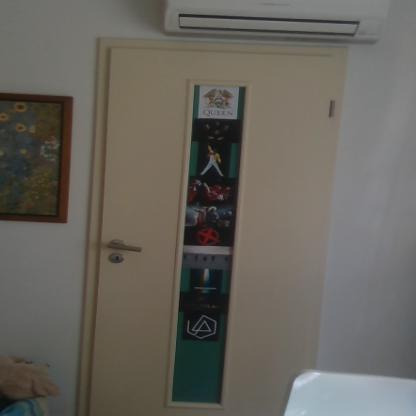door: (106, 47, 315, 416)
hinged: (326, 96, 336, 122)
lever: (103, 238, 147, 254)
